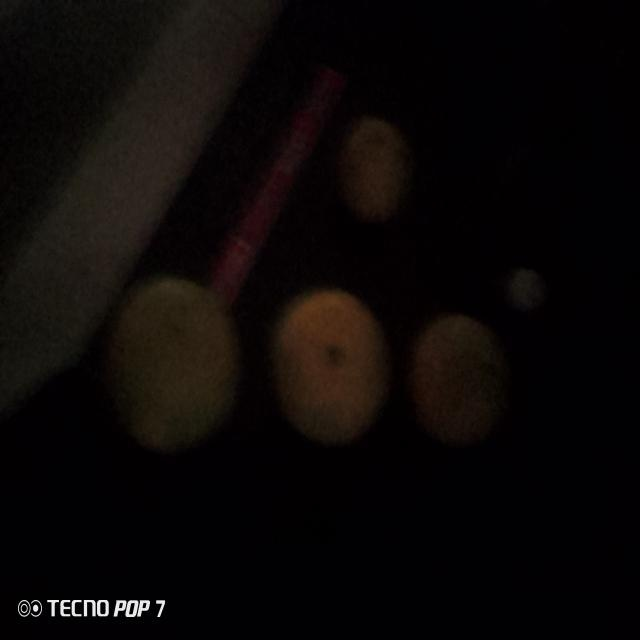agrume: (107, 273, 242, 452), (269, 285, 388, 457), (408, 301, 520, 438), (337, 109, 412, 222)
